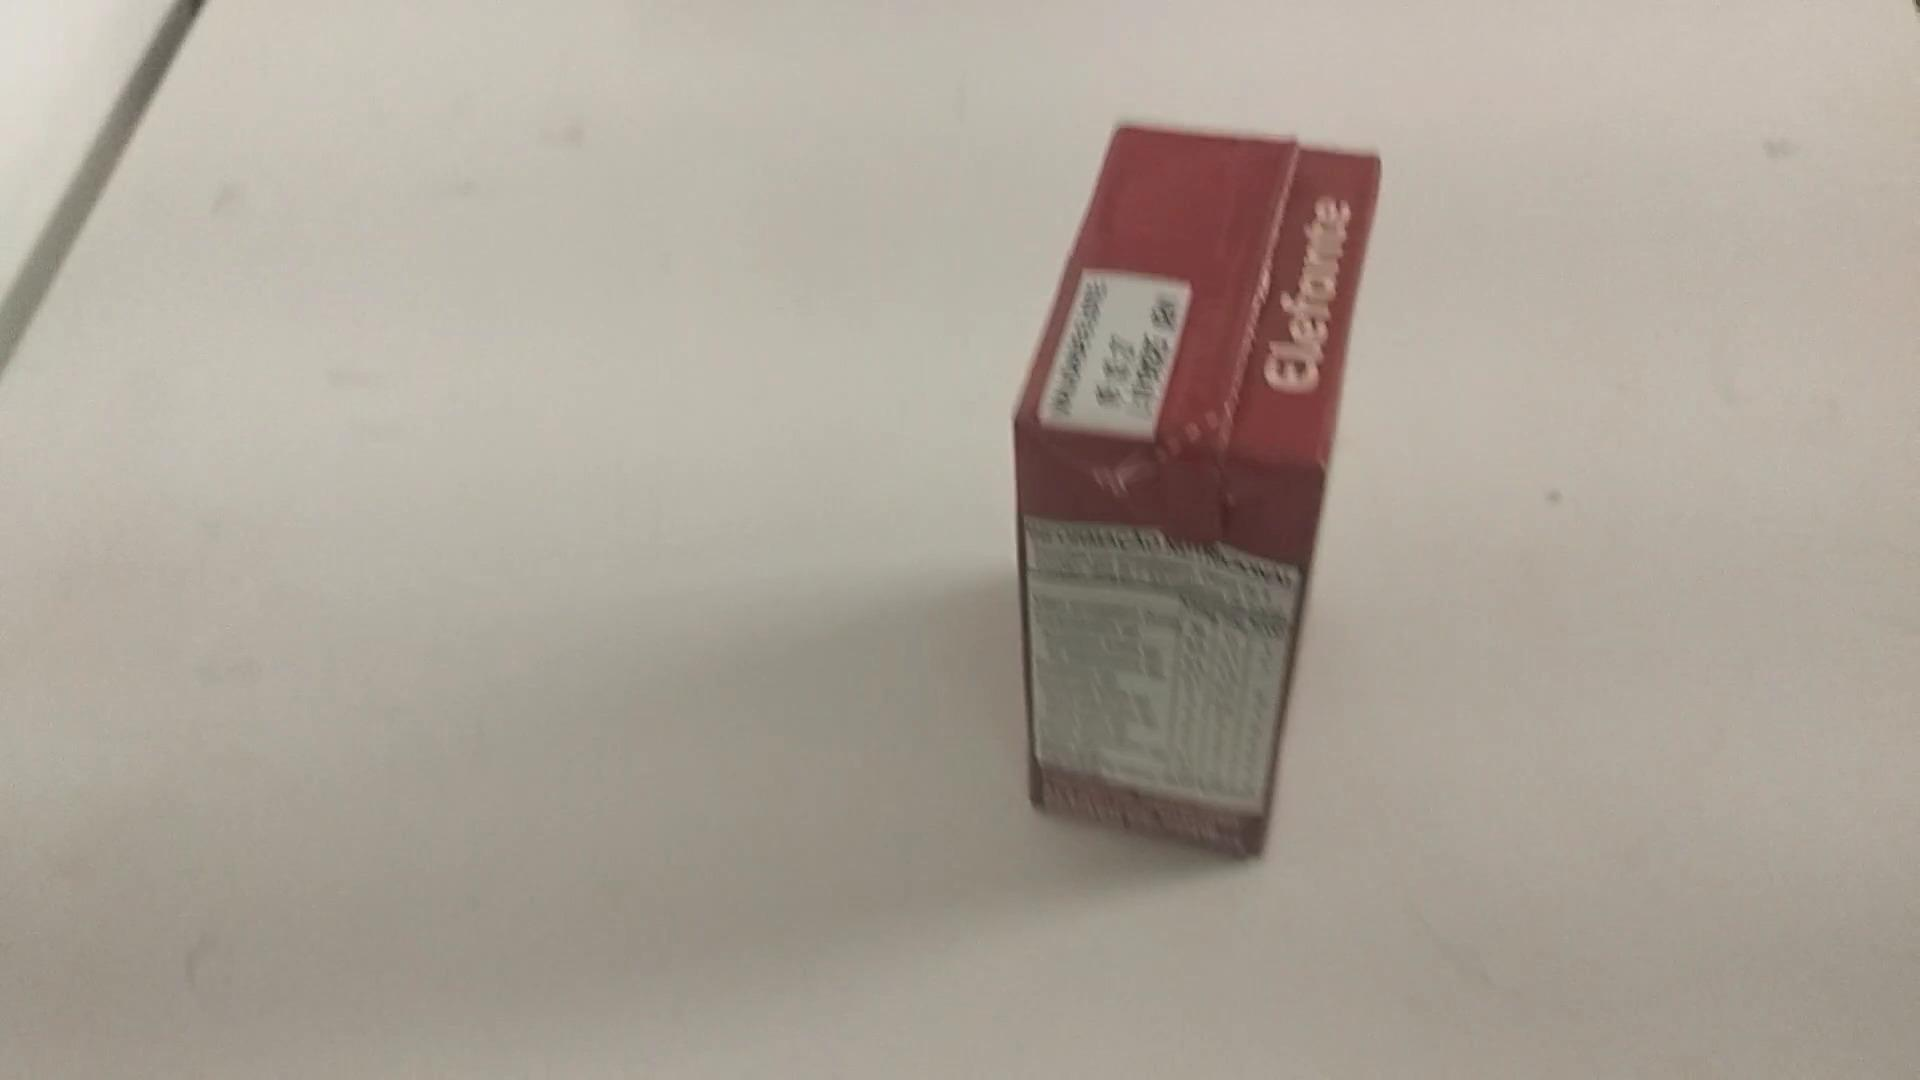tomate: (1006, 115, 1378, 864)
